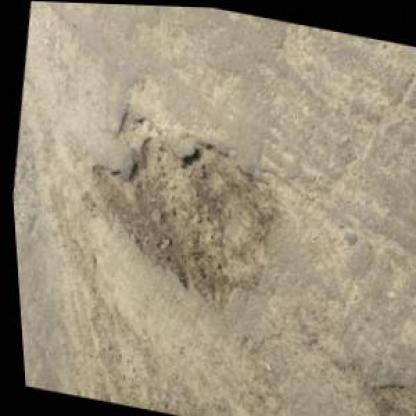pothole: (62, 98, 292, 319), (350, 364, 414, 414)
